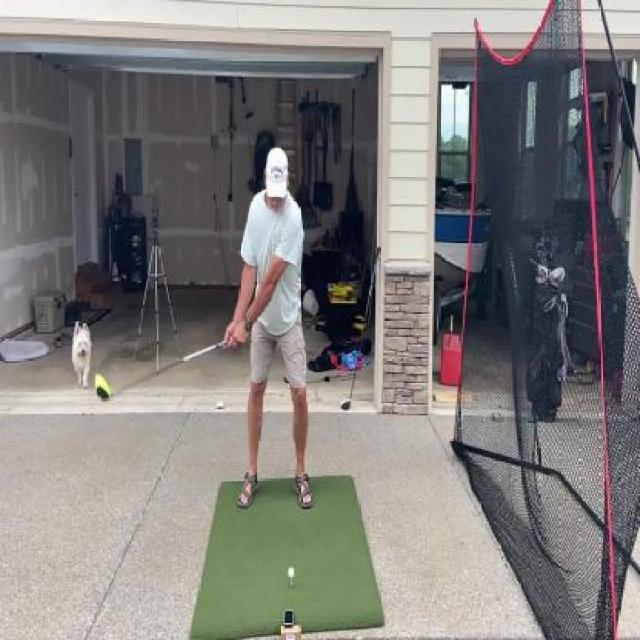club head: (94, 372, 115, 400)
